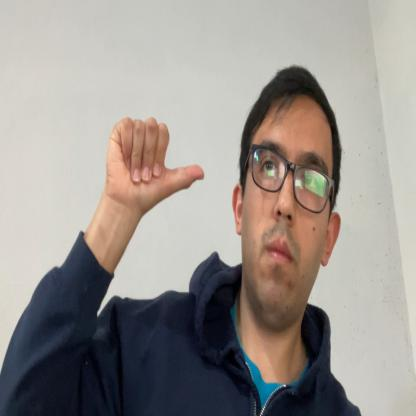A: (106, 115, 204, 205)
